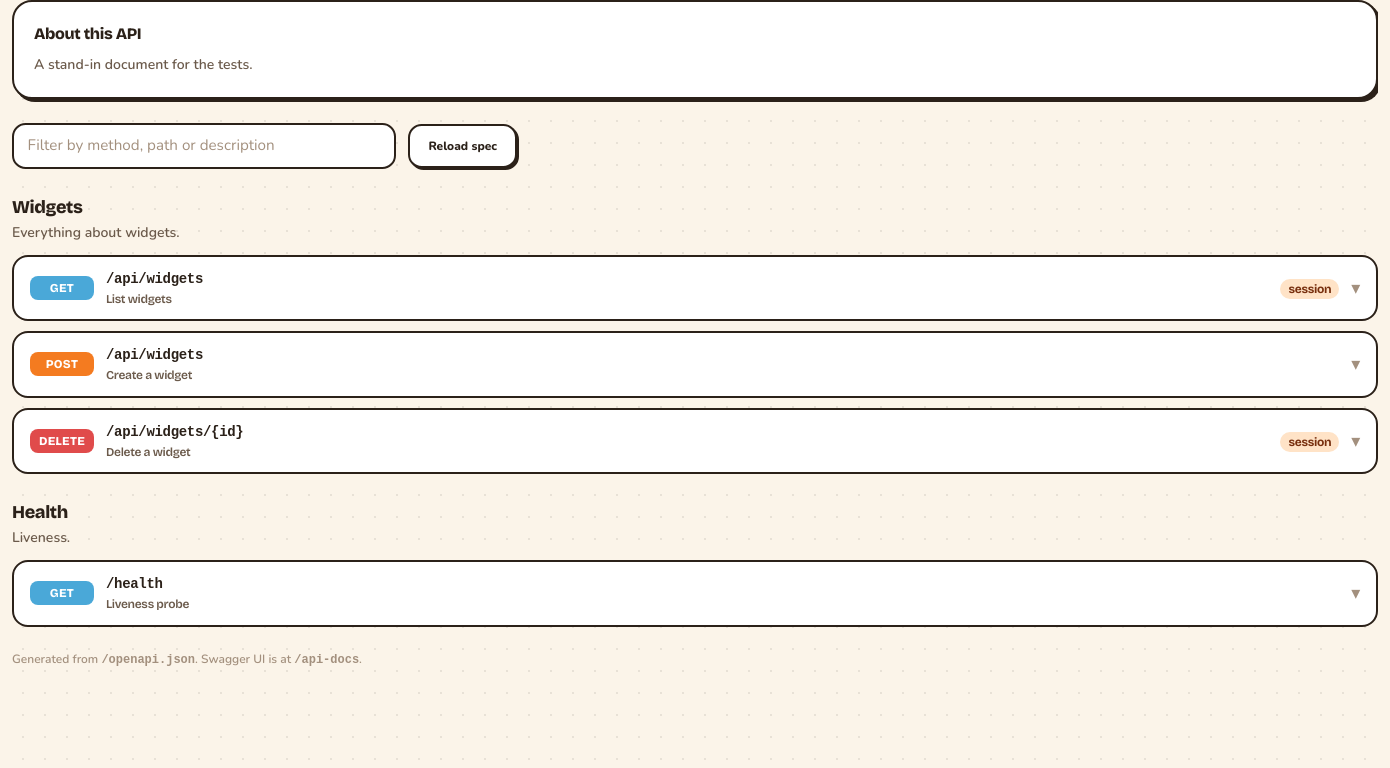
Test: the endpoint list › says so when a filter matches nothing, rather than showing an empty page
This screenshot has width=1390, height=768.
Expected: the heading "Widgets" is shown, [12,196,82,218]
Step 1. Type "nothing matches this" into the search field named "Filter endpoints" → (204, 146), box [12,123,396,169]
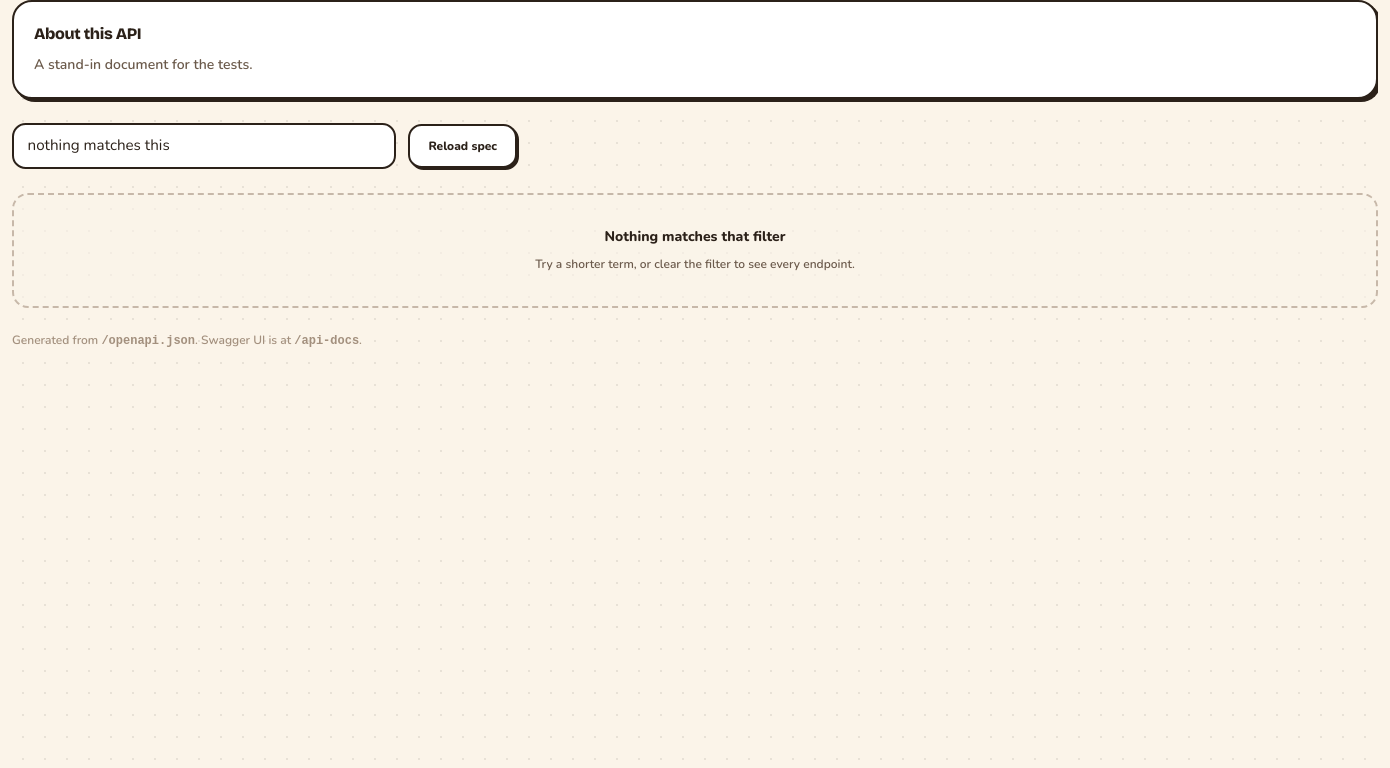
Expected: the text "Nothing matches that filter" is shown, [604,227,786,247]
